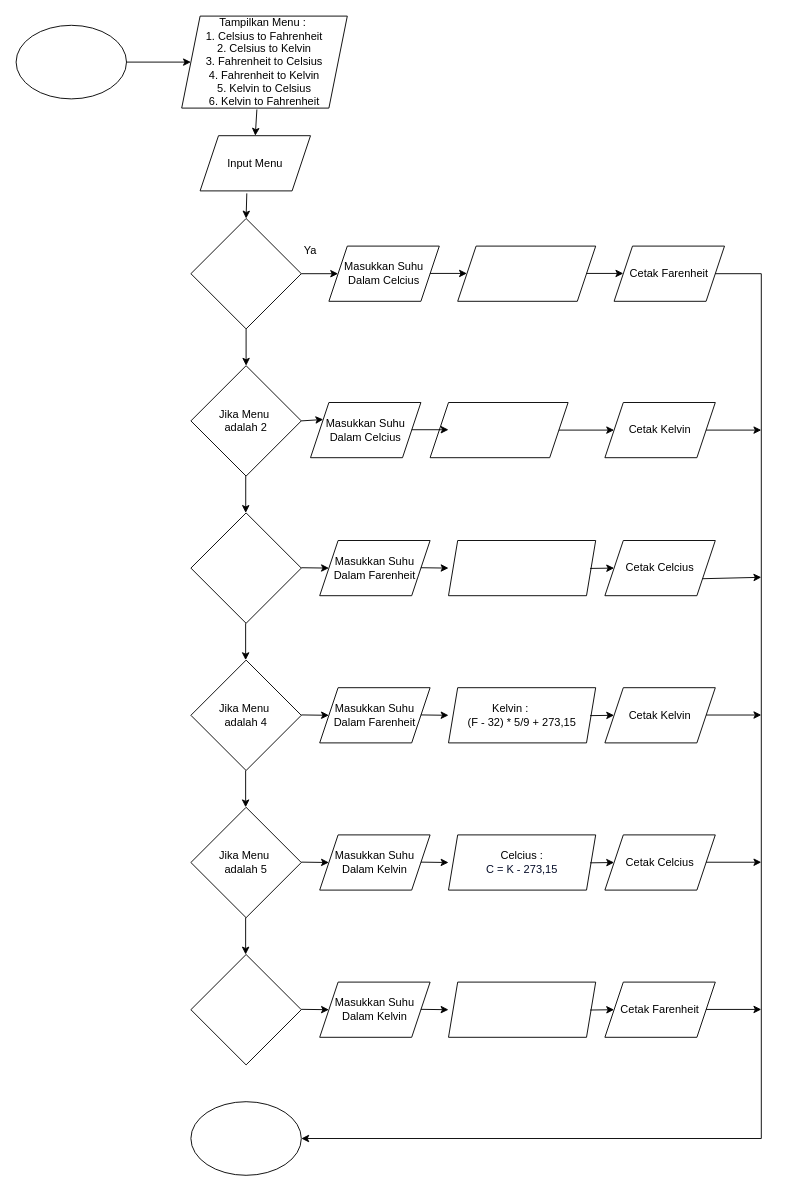
This 785x1191 diagram has some shape labels left out. The shapes that lost their labels are listed below. From the top down, each one's centre as x and y in pixels, then its label:
(70,61): Start
(245,273): Jika Menu adalah 1
(526,273): Farenheit = (C * 9/5) +32
(498,430): Kelvin : K = C + 273,15
(245,567): Jika Menu adalah 3
(522,568): Celcius : 5/9 * (F - 32)
(245,1009): Jika Menu adalah 6
(522,1009): Farenheit : F = 9/5 * (K - 273,15) + 32
(245,1138): End
